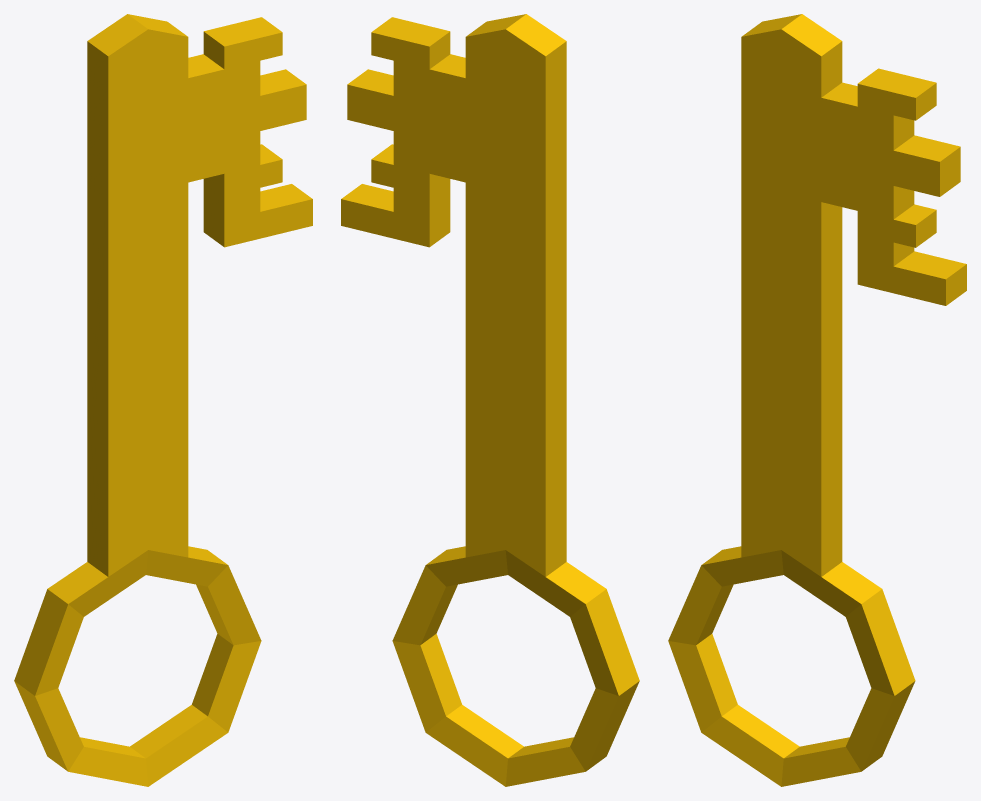
The model's file is Key.fbx.
3 renders of one model, left to right at view 1: azimuth 30°, elevation 25°; view 2: azimuth 150°, elevation 25°; view 3: azimuth 330°, elevation 25°, orthographic.
Parts seen in each view (by area): view 1: Cylinder; view 2: Cylinder; view 3: Cylinder.
Boxes of the visible parts, x1,y1,x2,y2 form: Cylinder: (14, 14, 312, 786); Cylinder: (341, 14, 639, 786); Cylinder: (668, 14, 966, 786).
Bounding box in the file's own units: 2.45 × 6.39 × 0.3195.
